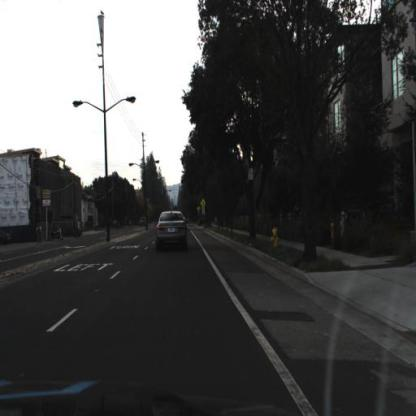biker: (35, 222, 44, 247)
car: (155, 208, 192, 253), (138, 216, 149, 232)
